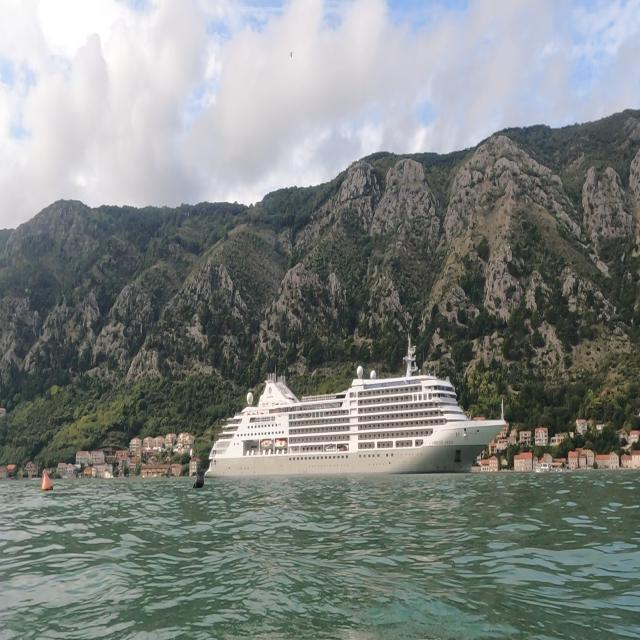boat: (202, 332, 508, 482)
buoy: (39, 464, 56, 500), (189, 468, 207, 496)
